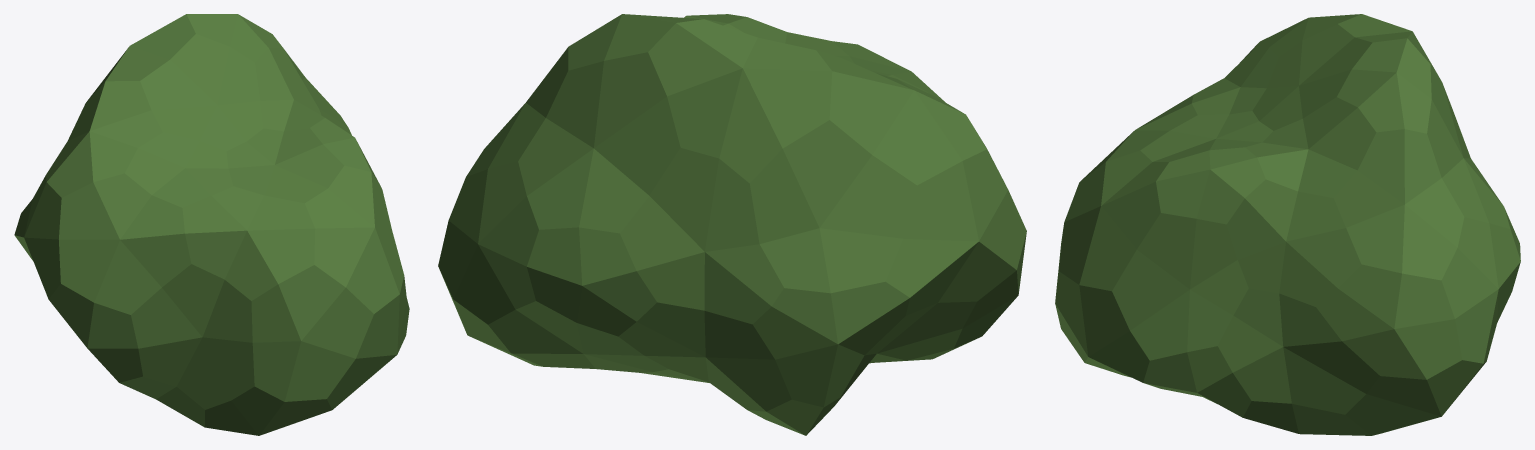
Rendered from bush1.fbx.
3 views of the same model, side by side, from view 1: azimuth 30°, elevation 25°; view 2: azimuth 150°, elevation 25°; view 3: azimuth 270°, elevation 25° (orthographic). The views are drawn at different scales.
Visible parts, largest first — view 1: Icosphere.003; view 2: Icosphere.003; view 3: Icosphere.003.
Boxes of the visible parts, x1,y1,x2,y2 form: Icosphere.003: [14, 14, 409, 435]; Icosphere.003: [438, 14, 1026, 435]; Icosphere.003: [1055, 14, 1520, 435].
Size of the model in its own units: 158 by 127 by 155.
